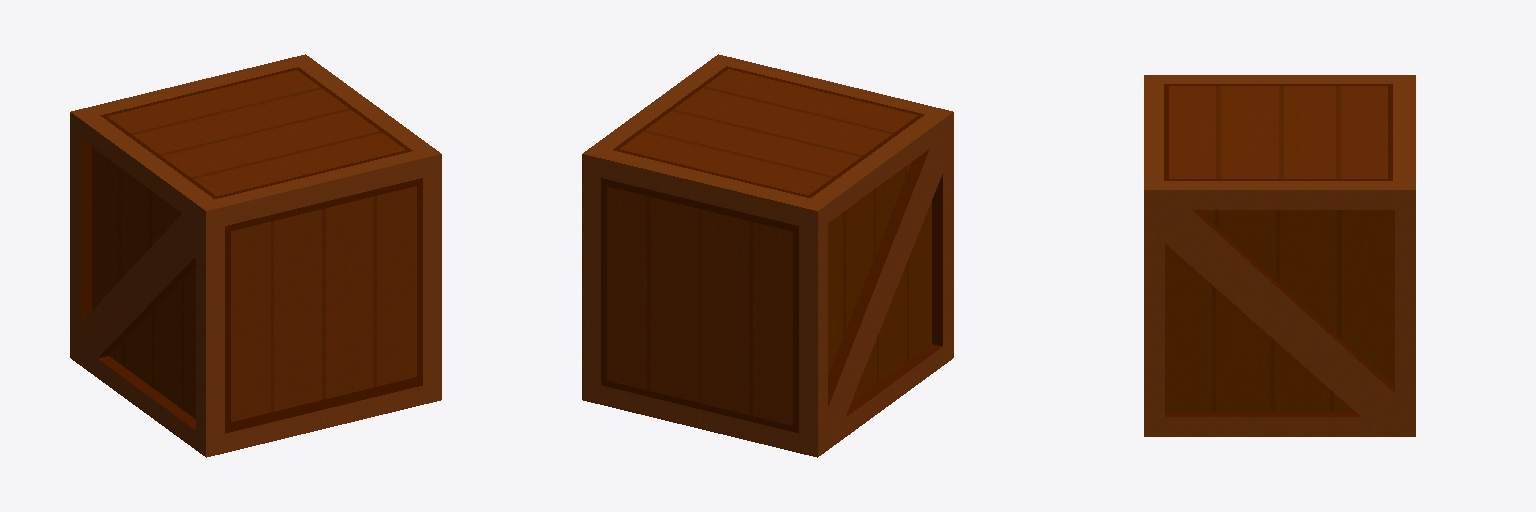
3 renders of one model, left to right at view 1: azimuth 30°, elevation 25°; view 2: azimuth 150°, elevation 25°; view 3: azimuth 270°, elevation 25°, orthographic.
Parts seen in each view (by area): view 1: Crate; view 2: Crate; view 3: Crate.
Part boxes in pixels (x1,y1,x2,y2): Crate: (70, 54, 441, 457); Crate: (582, 54, 953, 457); Crate: (1144, 75, 1415, 436).
Bounding box in the file's own units: 1 × 1 × 1.
Materials: 1 (1 with a texture image).